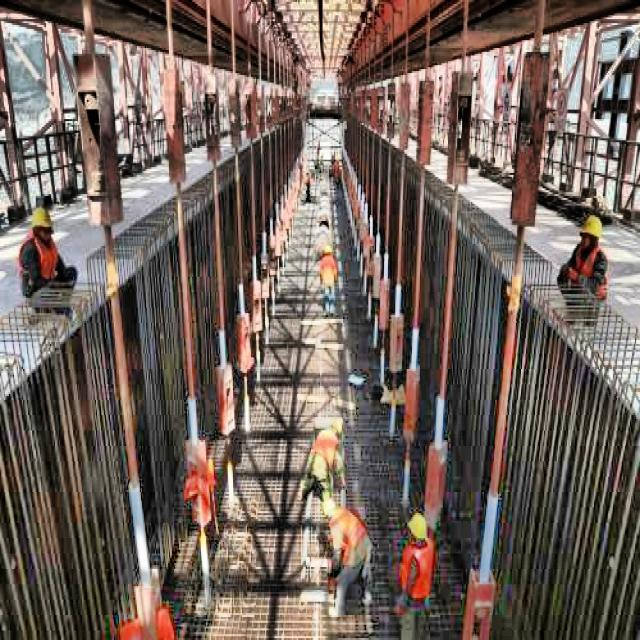helmet: (577, 208, 603, 262), (27, 200, 56, 248), (405, 512, 430, 558), (318, 496, 341, 528)
